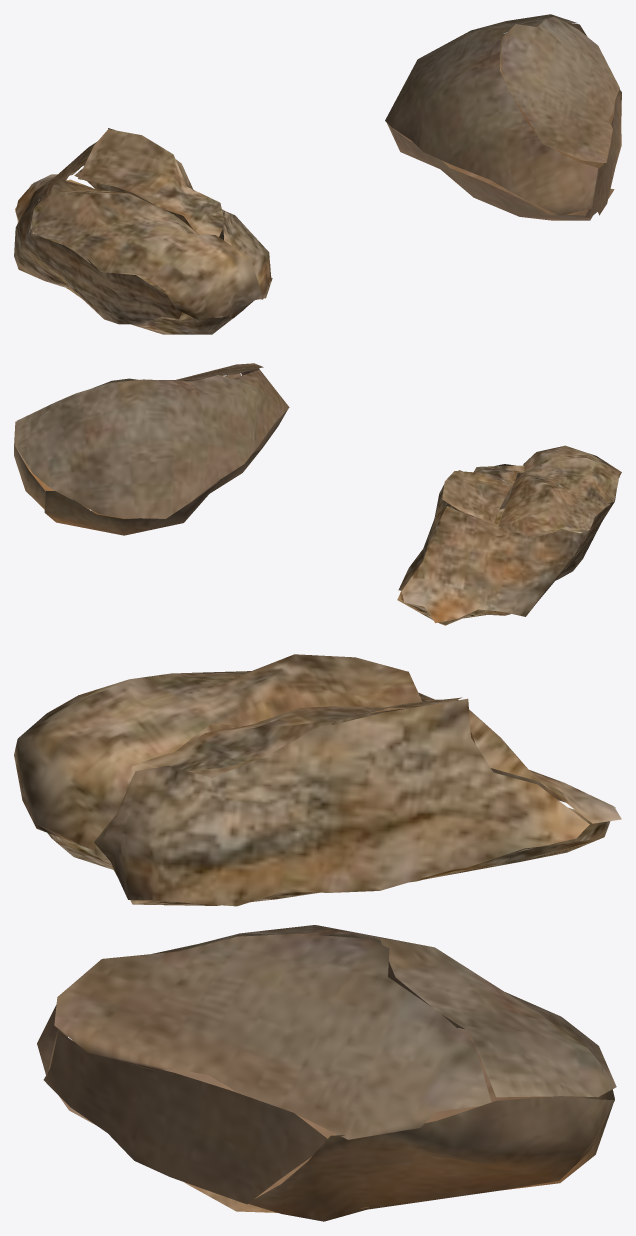
The model's file is namaqualand_boulders_01_lod2.glb.
3 views of the same model, one above another, from view 1: azimuth 30°, elevation 25°; view 2: azimuth 150°, elevation 25°; view 3: azimuth 270°, elevation 25° (orthographic). The views are drawn at different scales.
Visible parts, largest first — view 1: namaqualand_rocks_01_a, namaqualand_rocks_01_b; view 2: namaqualand_rocks_01_a, namaqualand_rocks_01_b; view 3: namaqualand_rocks_01_a, namaqualand_rocks_01_b.
Boxes of the visible parts, x1,y1,x2,y2 form: namaqualand_rocks_01_a: (385, 14, 621, 220); namaqualand_rocks_01_b: (14, 128, 272, 334); namaqualand_rocks_01_a: (14, 363, 289, 535); namaqualand_rocks_01_b: (397, 445, 621, 625); namaqualand_rocks_01_a: (37, 925, 616, 1221); namaqualand_rocks_01_b: (14, 654, 621, 906).
Size of the model in its own units: 1.05 by 0.2567 by 0.5797.
1 material, 1 textured.
